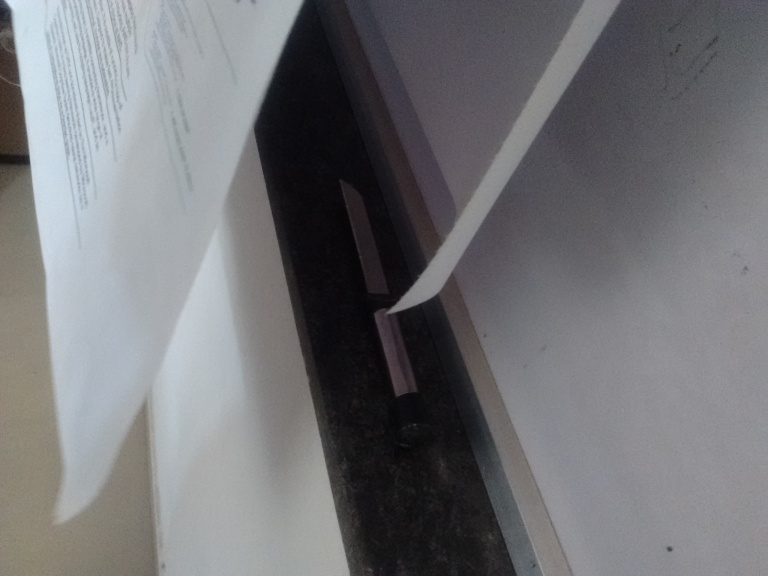knife: (337, 175, 433, 448)
